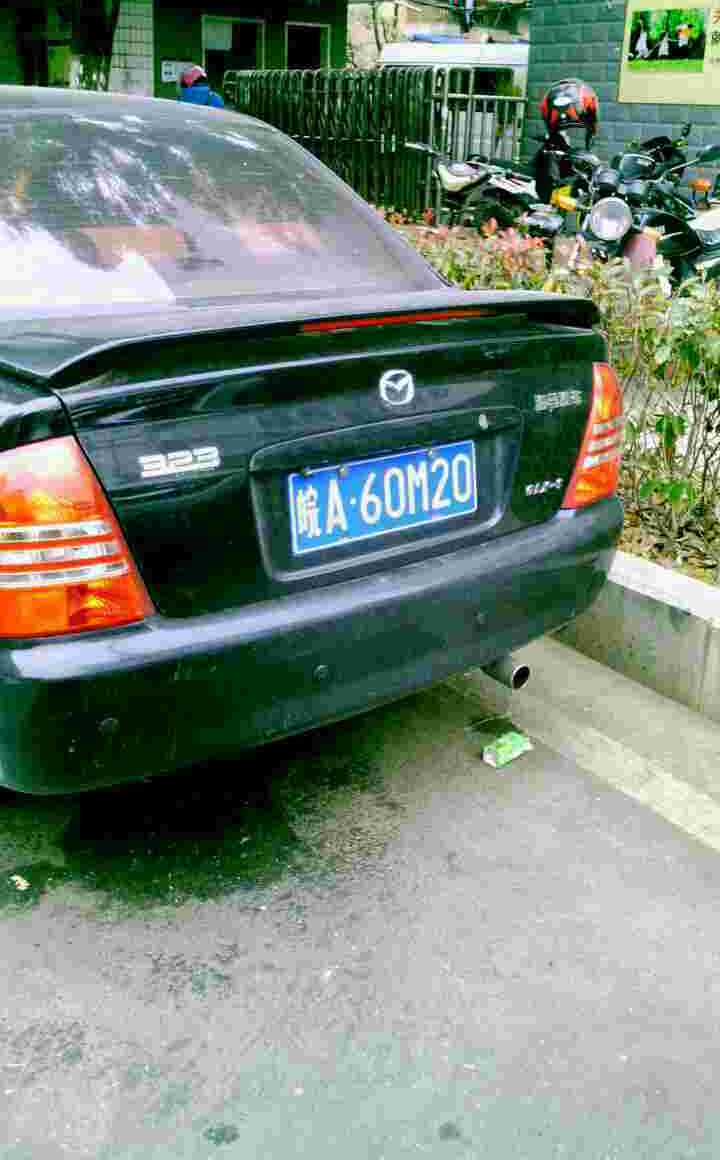license_plate: (283, 439, 483, 562)
